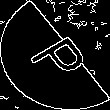P_NE: (19, 26, 91, 84)
